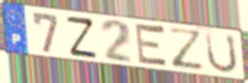2: (99, 18, 135, 65)
7: (30, 10, 60, 55)
E: (134, 21, 171, 70)
U: (204, 31, 239, 75)
Z: (167, 26, 207, 72), (65, 16, 99, 60)
